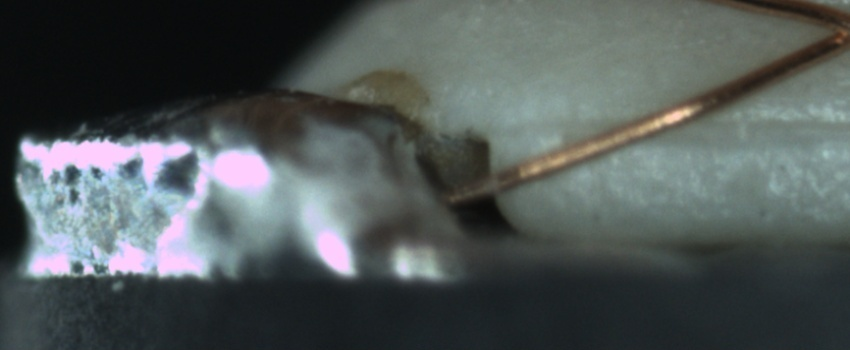CL: (808, 7, 850, 52)
DL: (533, 89, 850, 160)
